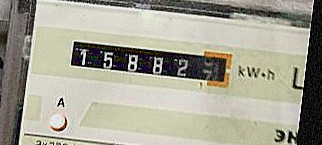1: (77, 45, 88, 64)
2: (175, 55, 189, 76)
5: (99, 48, 115, 68)
7: (199, 65, 212, 78)
8: (149, 52, 165, 74), (125, 50, 140, 71)
screen: (64, 31, 236, 91)
